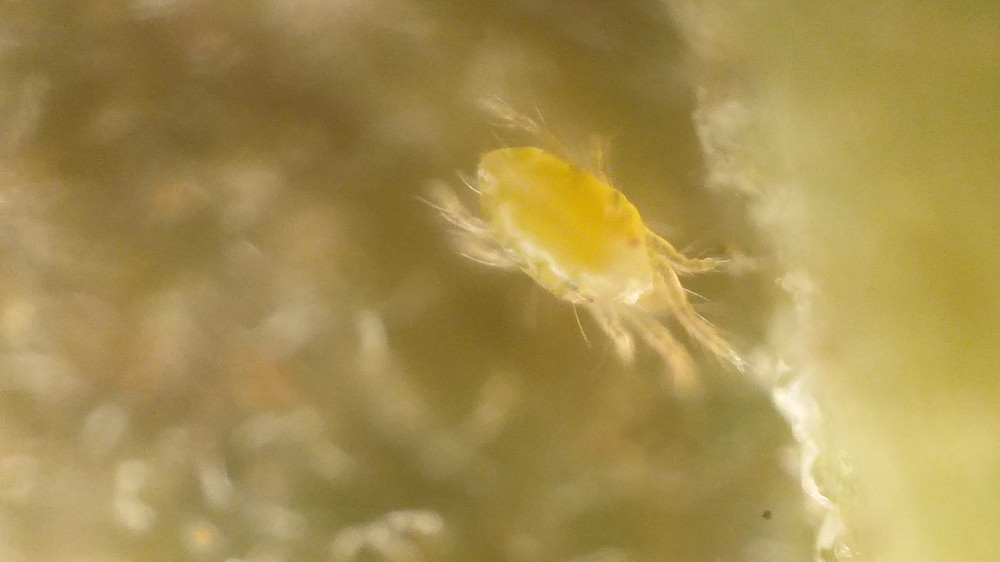Aracnido Rojo: (395, 81, 817, 430)
